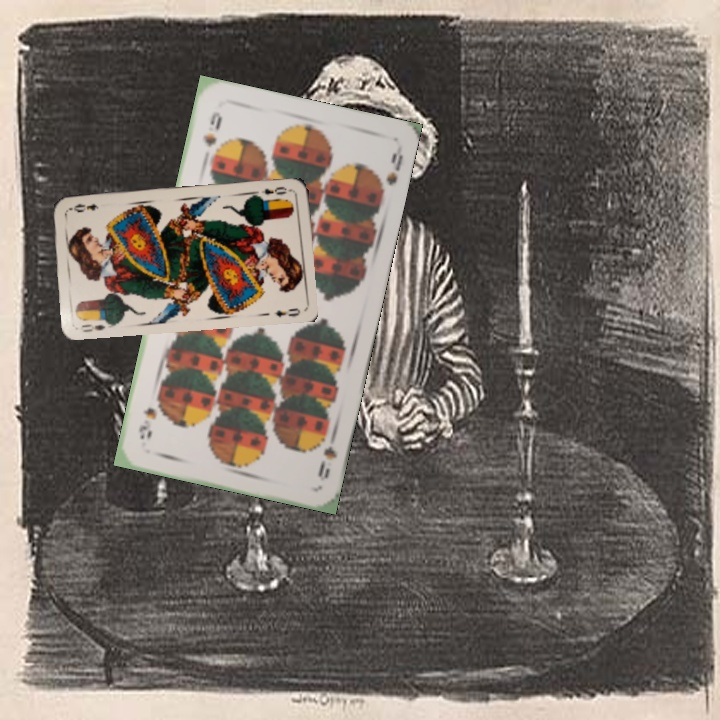EO: (258, 182, 294, 197), (78, 320, 108, 334)
S9: (313, 427, 340, 482), (199, 107, 225, 150)
